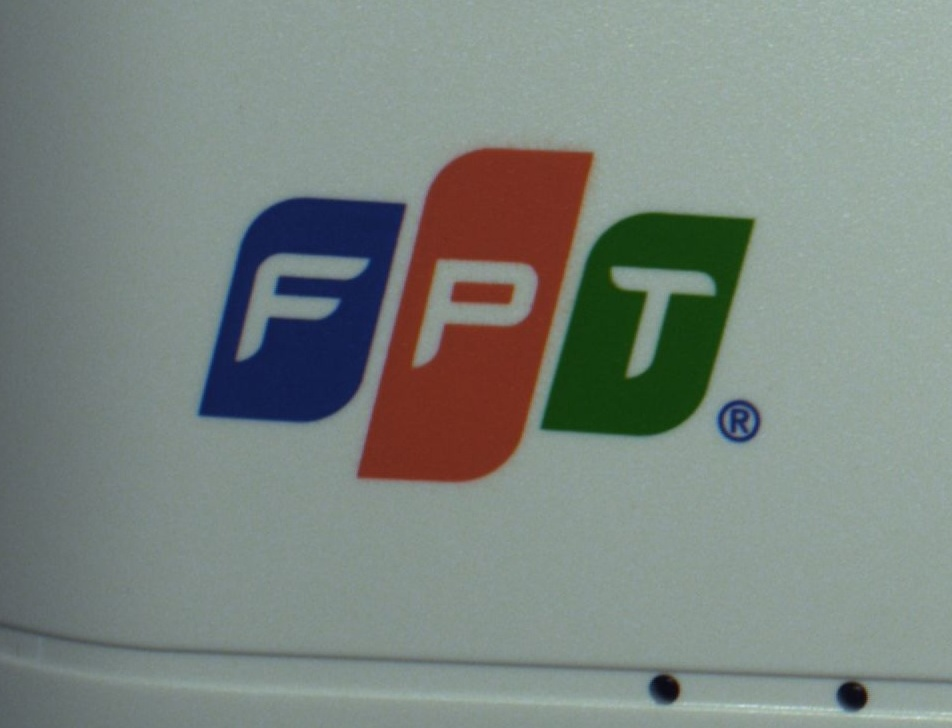BR_FPT: (159, 139, 770, 498)
